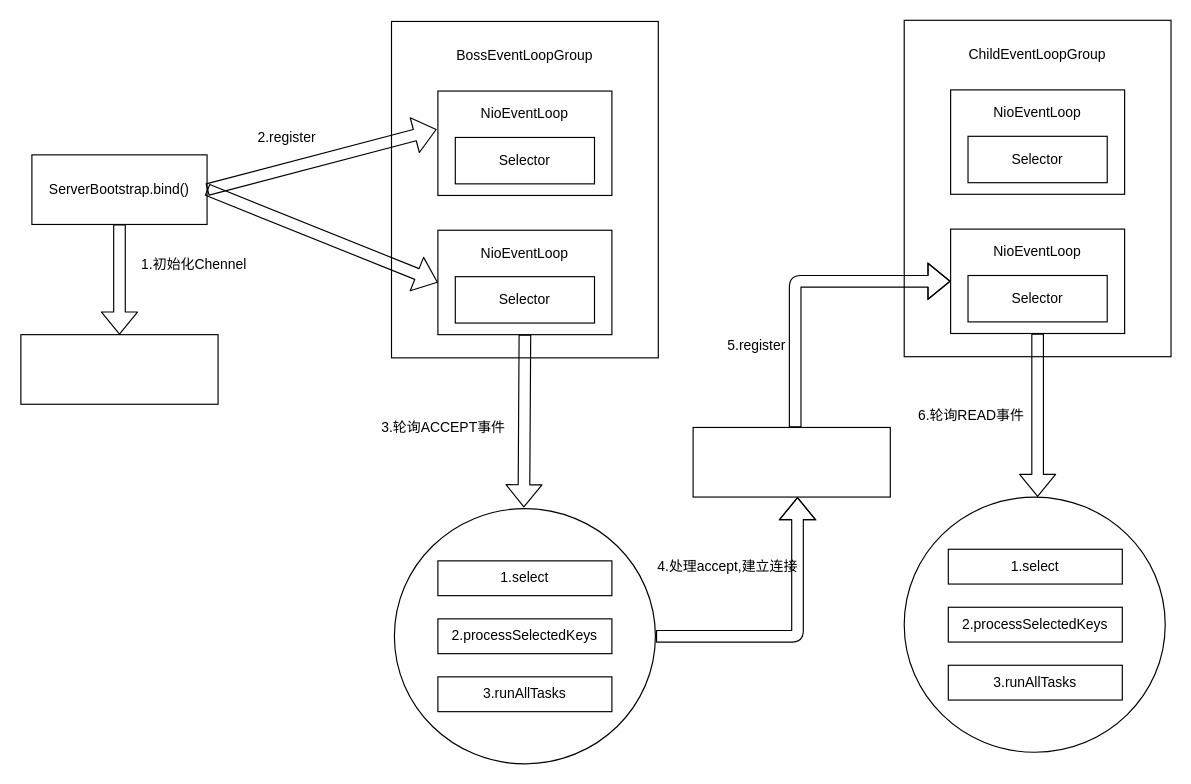
Some shapes in this 1191 by 784 pixel diagram are drawn without their labels. Each missing label, with the centre of its shape:
NioServerSocketChannel: the point at 119,369
NioSocketChannel: the point at 791,461
